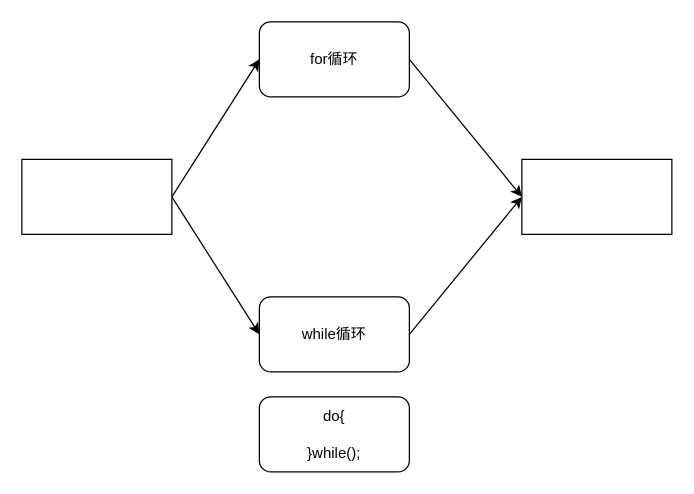
Some shapes in this 694 by 494 pixel diagram are drawn without their labels. The centre of each missing label's shape, as x and y in pixels:
循环控制流: point (96, 196)
让代码多次运行: point (596, 196)
